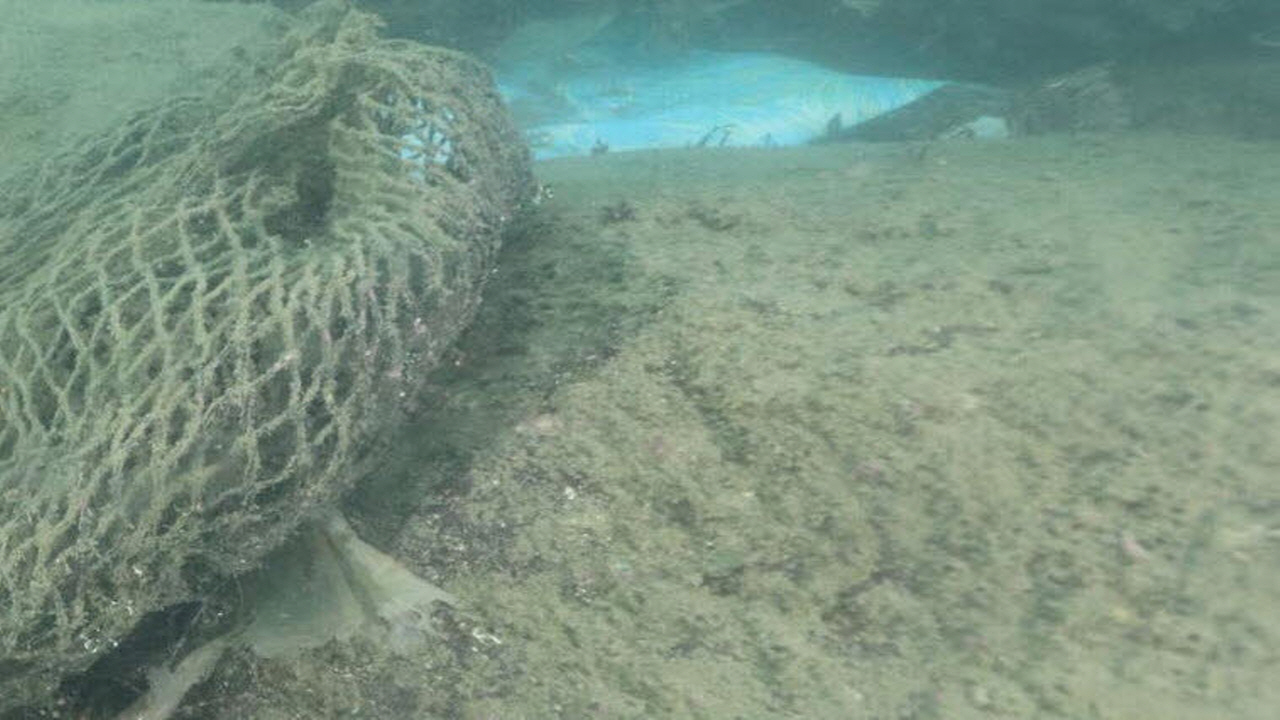fish net: (0, 38, 532, 707)
